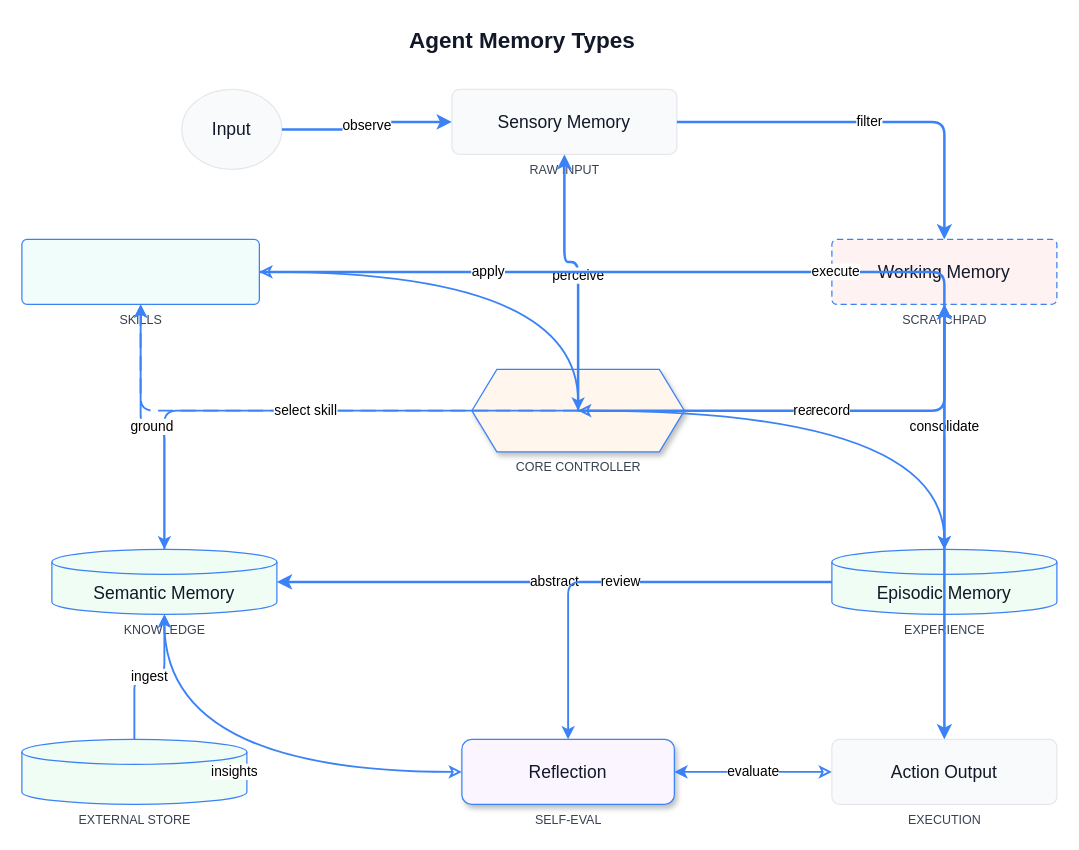
This 1079x850 diagram has some shape labels left out. The centre of each missing label's shape, as x and y in pixels:
Agent: the point at 579,412
Knowledge Base: the point at 134,771
Procedural Memory: the point at 140,271
